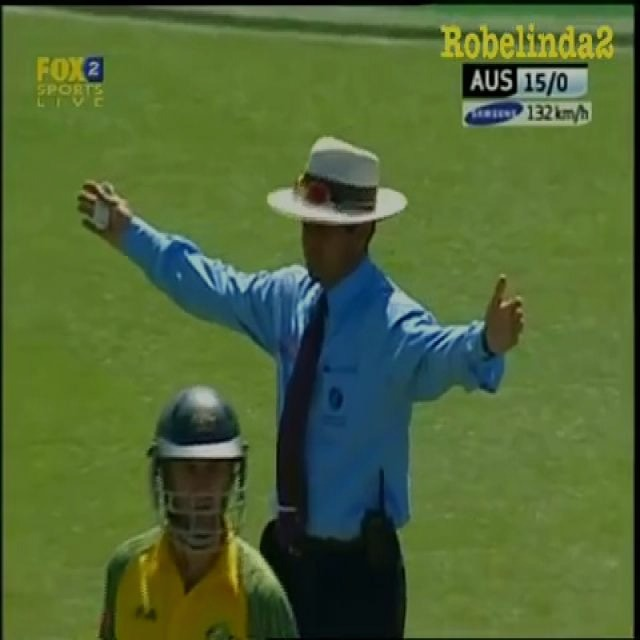Wide: (70, 120, 535, 440)
